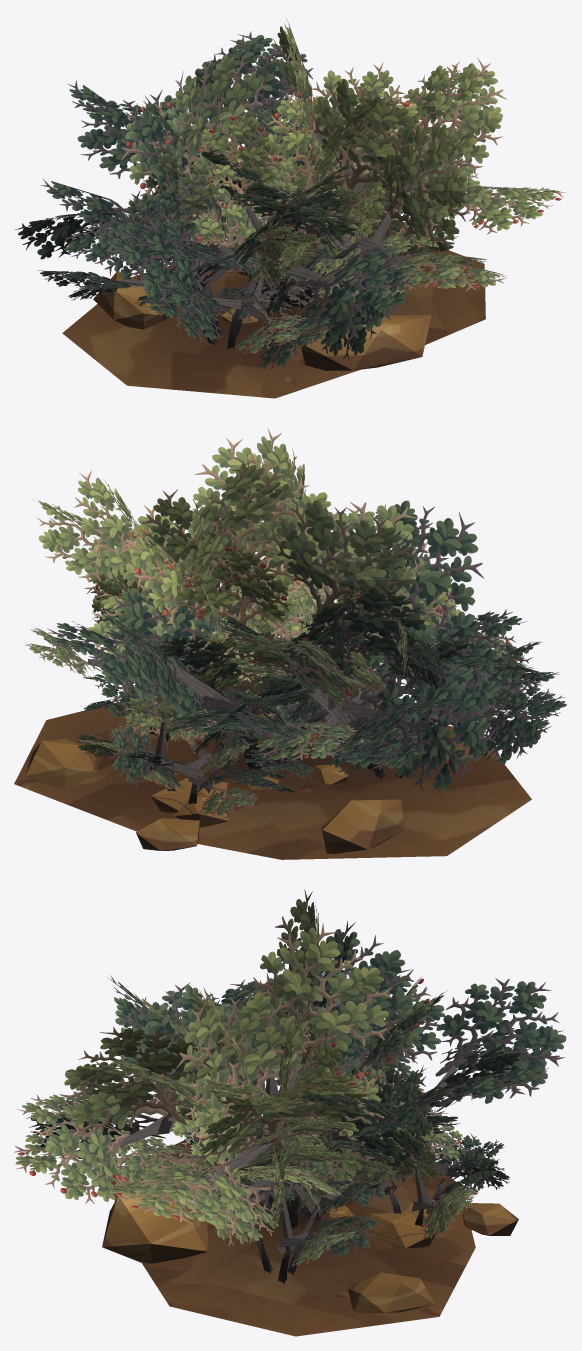
The model's file is sarcopoterium.glb.
3 renders of one model, top to bottom at view 1: azimuth 30°, elevation 25°; view 2: azimuth 150°, elevation 25°; view 3: azimuth 270°, elevation 25°, orthographic. The views are drawn at different scales.
Visible parts, largest first — view 1: Sarco3_Larga_Primavera, Sarco4_Grupo_Primavera, Sarco2_Media_Primavera, Sarco1_Pequena_Primavera, Sarco3_Larga_Verao, Sarco2_Media_Verao; view 2: Sarco3_Larga_Primavera, Sarco4_Grupo_Primavera, Sarco2_Media_Primavera, Sarco1_Pequena_Primavera, Sarco3_Larga_Verao; view 3: Sarco3_Larga_Primavera, Sarco4_Grupo_Primavera, Sarco2_Media_Primavera, Sarco1_Pequena_Primavera, Sarco3_Larga_Verao.
Boxes of the visible parts, x1,y1,x2,y2 form: Sarco3_Larga_Primavera: (15,18,566,360); Sarco4_Grupo_Primavera: (38,112,485,398); Sarco2_Media_Primavera: (94,91,458,323); Sarco1_Pequena_Primavera: (189,165,364,322); Sarco3_Larga_Verao: (22,35,548,350); Sarco2_Media_Verao: (104,112,436,306); Sarco3_Larga_Primavera: (32,428,538,828); Sarco4_Grupo_Primavera: (14,550,566,859); Sarco2_Media_Primavera: (87,545,438,784); Sarco1_Pequena_Primavera: (192,623,383,789); Sarco3_Larga_Verao: (41,428,529,790); Sarco3_Larga_Primavera: (14,890,566,1247); Sarco4_Grupo_Primavera: (41,970,518,1336); Sarco2_Media_Primavera: (104,997,449,1246); Sarco1_Pequena_Primavera: (226,1105,391,1219); Sarco3_Larga_Verao: (14,889,563,1222).
Size of the model in its own units: 1.88 by 1.12 by 1.77.
Materials: 2 (2 with a texture image).
